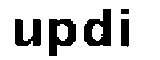d: (82, 4, 114, 52)
i: (117, 4, 138, 50)
p: (44, 17, 79, 60)
u: (10, 15, 42, 51)
